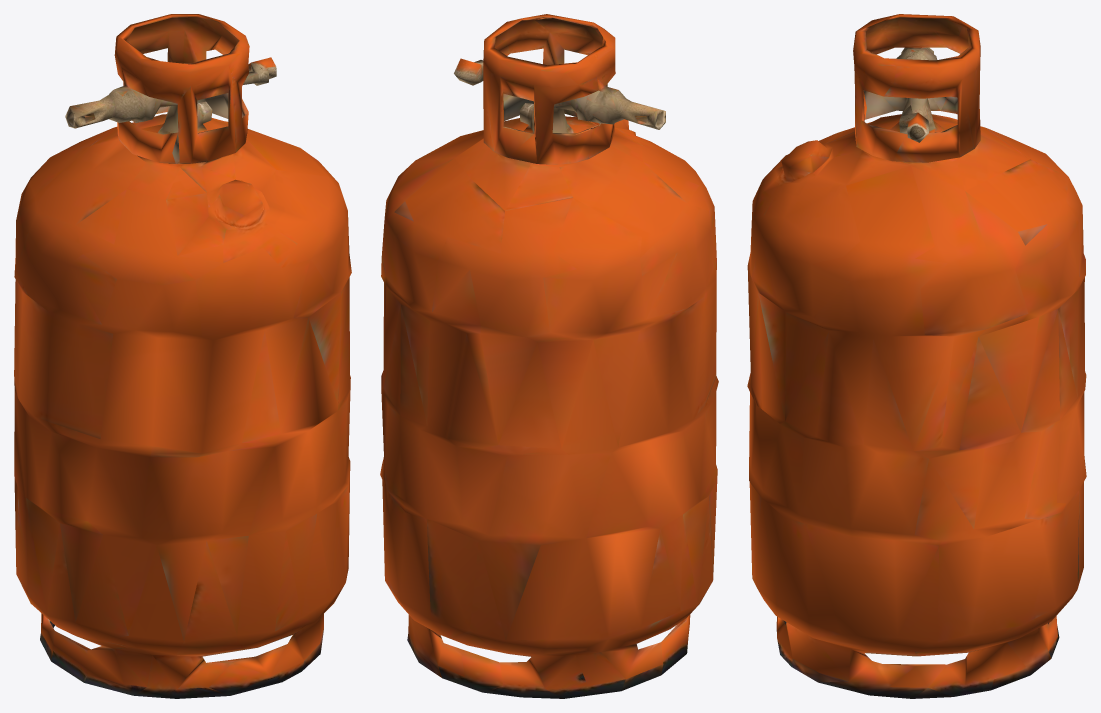
File: fv_gas_cylinder.glb
The picture shows the model from 3 angles, left to right: view 1: azimuth 30°, elevation 25°; view 2: azimuth 150°, elevation 25°; view 3: azimuth 270°, elevation 25°; orthographic projection.
Visible parts, largest first — view 1: fv_gas_cylinder; view 2: fv_gas_cylinder; view 3: fv_gas_cylinder.
Boxes of the visible parts, x1=… form: fv_gas_cylinder: x1=14, y1=14, x2=351, y2=698; fv_gas_cylinder: x1=380, y1=14, x2=718, y2=698; fv_gas_cylinder: x1=747, y1=14, x2=1086, y2=698.
Size of the model in its own units: 0.4333 by 0.8497 by 0.4343.
Materials: 1 (1 with a texture image).
